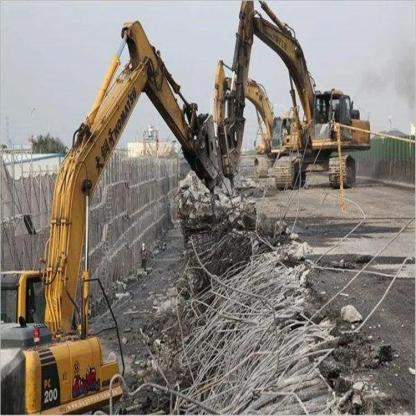rebar: (106, 191, 415, 415), (270, 127, 332, 243), (251, 113, 293, 251)
